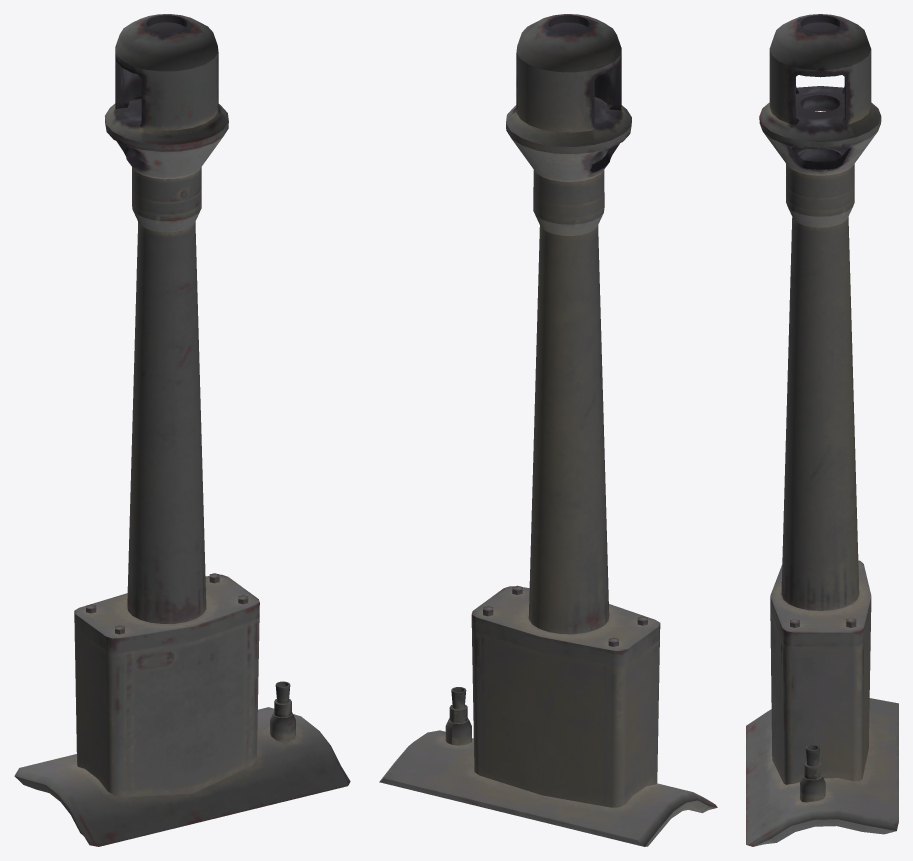
File: Gun_08.glb
3 views of the same model, side by side, from view 1: azimuth 30°, elevation 25°; view 2: azimuth 150°, elevation 25°; view 3: azimuth 270°, elevation 25° (orthographic). The views are drawn at different scales.
Parts seen in each view (by area): view 1: set_0_group_0; view 2: set_0_group_0; view 3: set_0_group_0.
Boxes of the visible parts, <box> form: set_0_group_0: <box>14,14,350,846</box>; set_0_group_0: <box>379,14,717,846</box>; set_0_group_0: <box>746,14,898,846</box>.
Bounding box in the file's own units: 0.7848 × 2.2 × 0.4041.
Materials: 1 (1 with a texture image).
